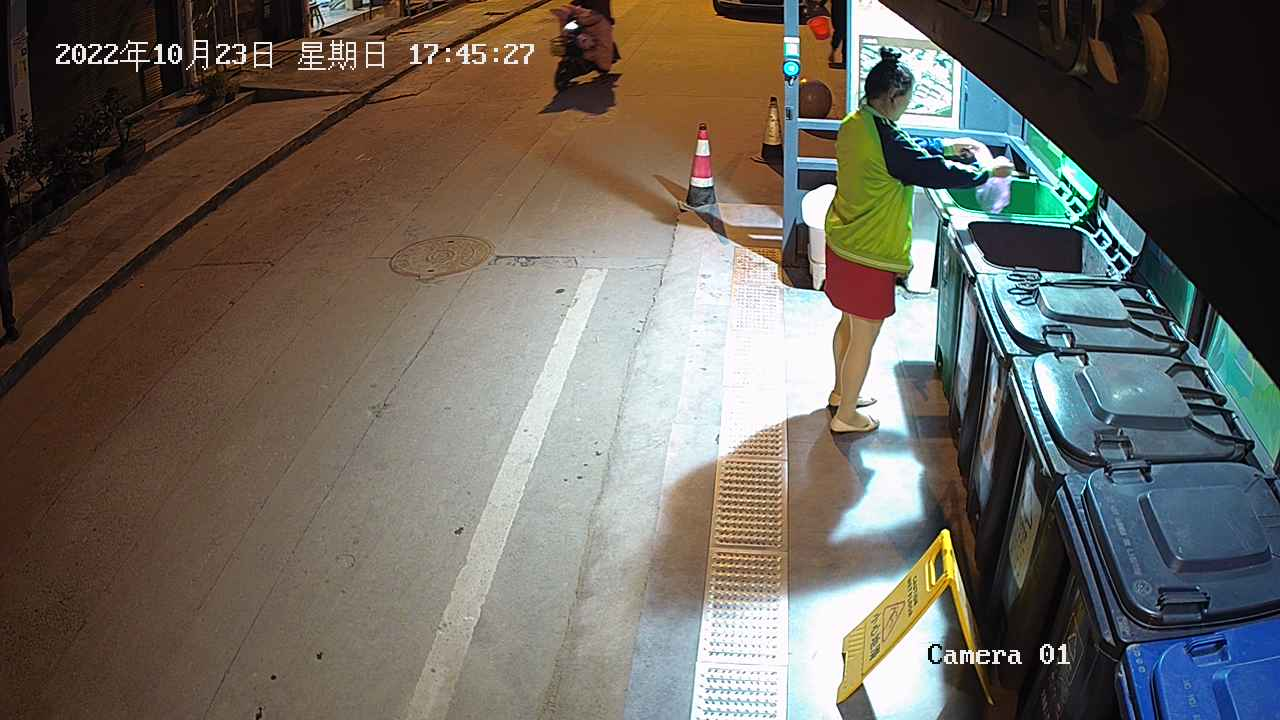person: (818, 45, 1015, 435)
